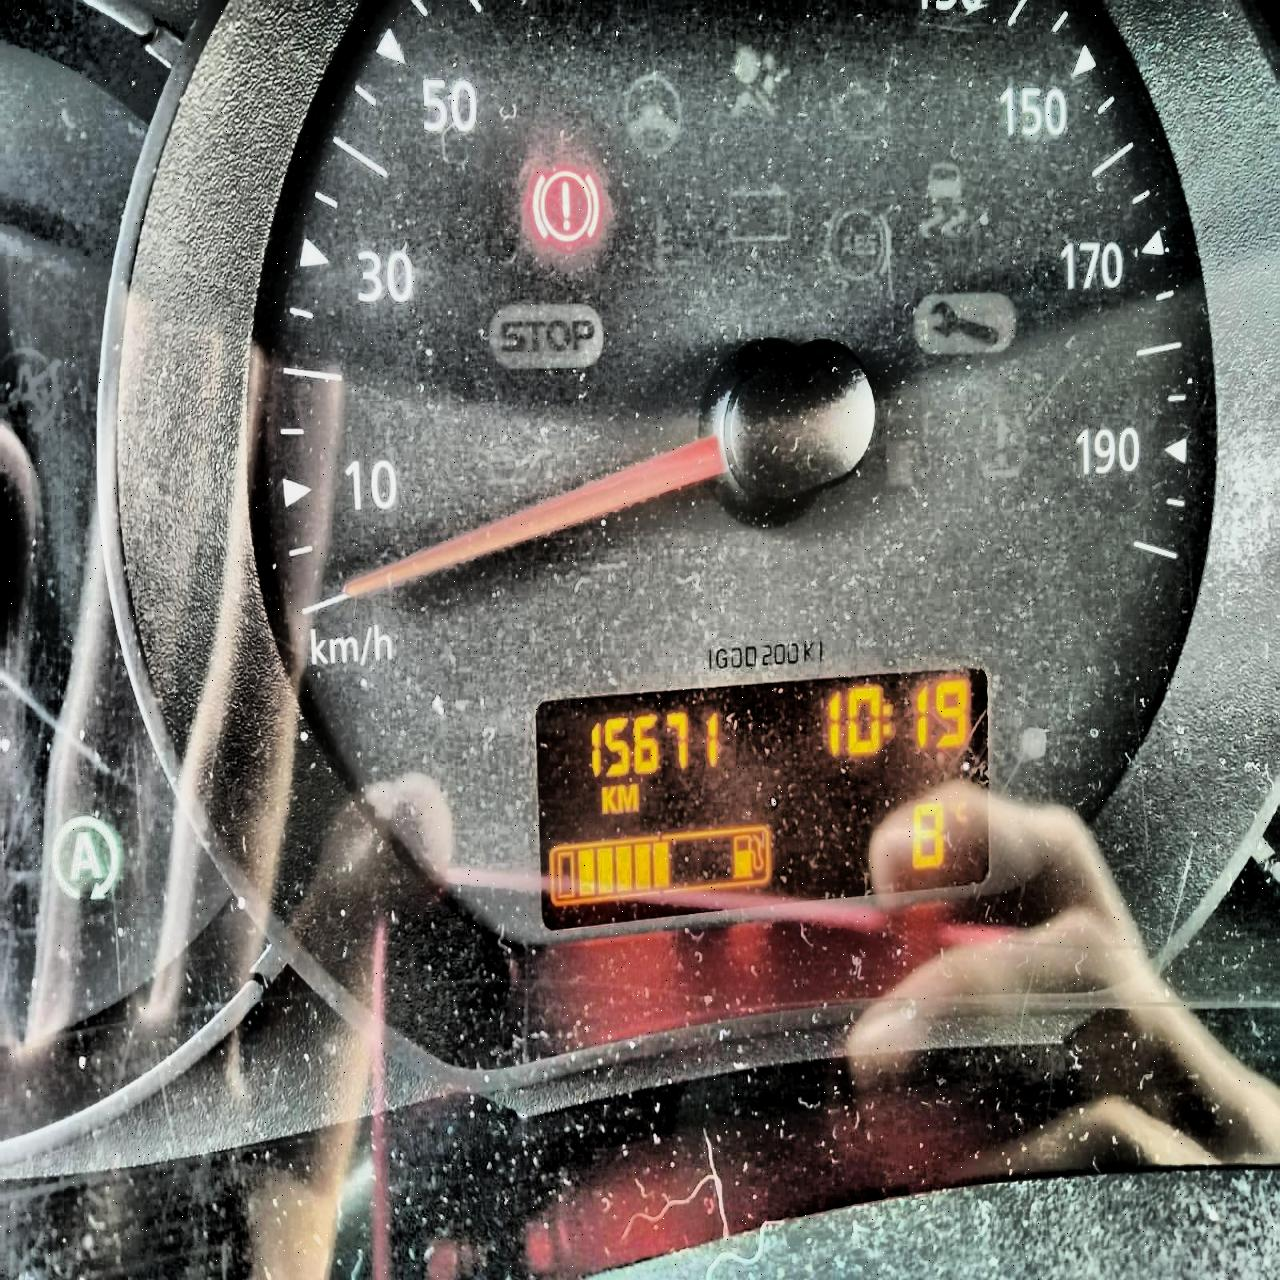0: (846, 685, 880, 754)
1: (914, 683, 927, 750), (826, 689, 839, 755), (591, 720, 600, 778), (707, 712, 716, 767)
5: (604, 716, 628, 777)
6: (633, 715, 658, 774)
7: (666, 713, 687, 768)
8: (911, 802, 944, 869)
9: (934, 679, 967, 748)
X: (615, 782, 639, 813), (600, 785, 617, 815), (880, 702, 891, 737), (954, 798, 968, 822)
odometer: (533, 663, 993, 933)
